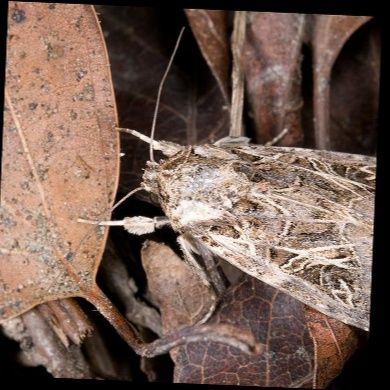Spodoptera litura: (45, 27, 375, 324)
